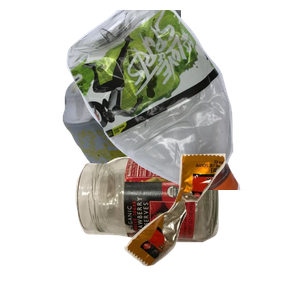glass: (73, 153, 284, 300)
metal: (60, 10, 300, 190)
plastic: (64, 10, 300, 190)
trash: (122, 151, 300, 300)
